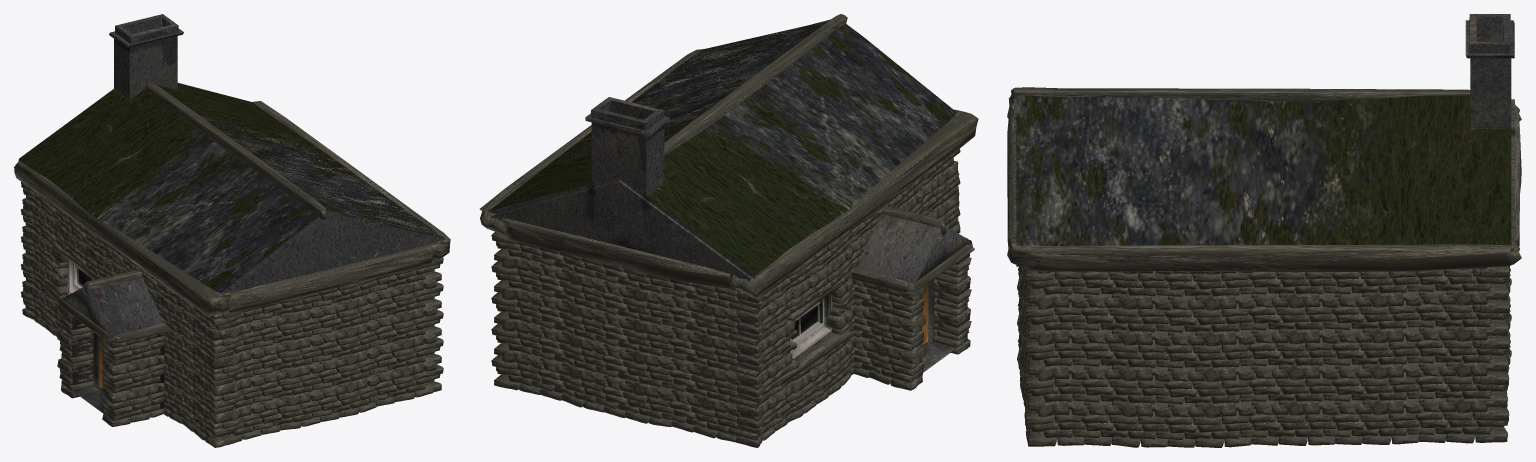
3 renders of one model, left to right at view 1: azimuth 30°, elevation 25°; view 2: azimuth 150°, elevation 25°; view 3: azimuth 270°, elevation 25°, orthographic. The views are drawn at different scales.
Visible parts, largest first — view 1: house1.001, wallage.002, wallage.001, wallage.005, house1, wallage.011, wallage.013, wallage.009, wallage.012, wallage.004, wallage.008, wallage.000 (+1 smaller); view 2: house1.001, wallage.003, wallage.001, wallage.005, house1, wallage.011, wallage.014, wallage.009, wallage.012, wallage.000, wallage.007, wallage.008; view 3: wallage.004, house1.001, wallage.012, wallage.009, wallage.003, wallage.002, wallage.013, wallage.014.
Boxes of the visible parts, x1,y1,x2,y2 form: house1.001: [18, 14, 446, 311]; wallage.002: [220, 264, 437, 445]; wallage.001: [20, 182, 237, 447]; wallage.005: [57, 304, 164, 426]; house1: [62, 258, 164, 420]; wallage.011: [14, 160, 232, 315]; wallage.013: [227, 245, 434, 313]; wallage.009: [145, 82, 327, 221]; wallage.012: [252, 101, 450, 262]; wallage.004: [423, 257, 443, 391]; wallage.008: [84, 270, 142, 294]; wallage.000: [58, 297, 120, 343]; house1.001: [488, 19, 957, 281]; wallage.003: [491, 232, 740, 442]; wallage.001: [728, 148, 960, 447]; wallage.005: [852, 253, 971, 390]; house1: [788, 214, 971, 372]; wallage.011: [729, 109, 978, 298]; wallage.014: [501, 218, 733, 288]; wallage.009: [664, 14, 847, 155]; wallage.012: [479, 49, 703, 237]; wallage.000: [902, 240, 974, 292]; wallage.007: [851, 268, 907, 292]; wallage.008: [882, 206, 946, 236]; wallage.004: [1025, 267, 1503, 447]; house1.001: [1014, 14, 1515, 266]; wallage.012: [1007, 233, 1521, 271]; wallage.009: [1009, 87, 1470, 103]; wallage.003: [1478, 266, 1511, 442]; wallage.002: [1017, 266, 1038, 441]; wallage.013: [1007, 110, 1013, 248]; wallage.014: [1515, 112, 1521, 246].
Bounding box in the file's own units: 739 × 633 × 857.
2 materials, 2 textured.
